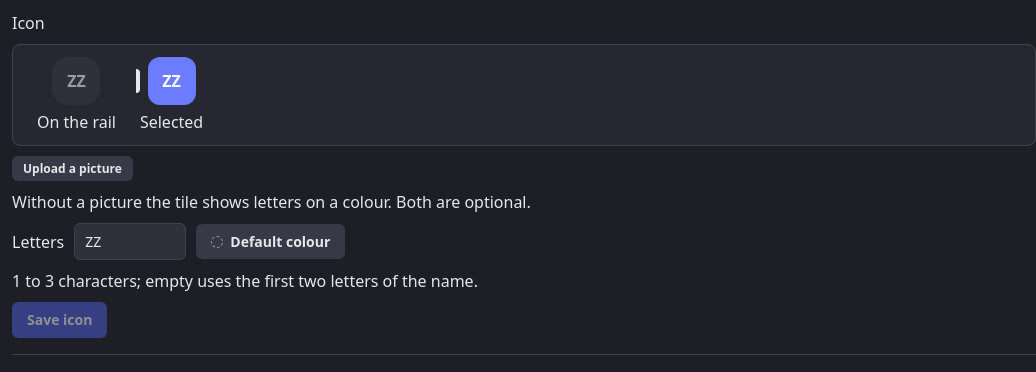
Test: the letters › refuse more than three characters, say so, and keep the saved ones in the preview
The width and height of the screenshot is (1036, 372).
Replace the text in the field labelled "Letters" with "ABCD" at (130, 242), box [74,223,186,260]
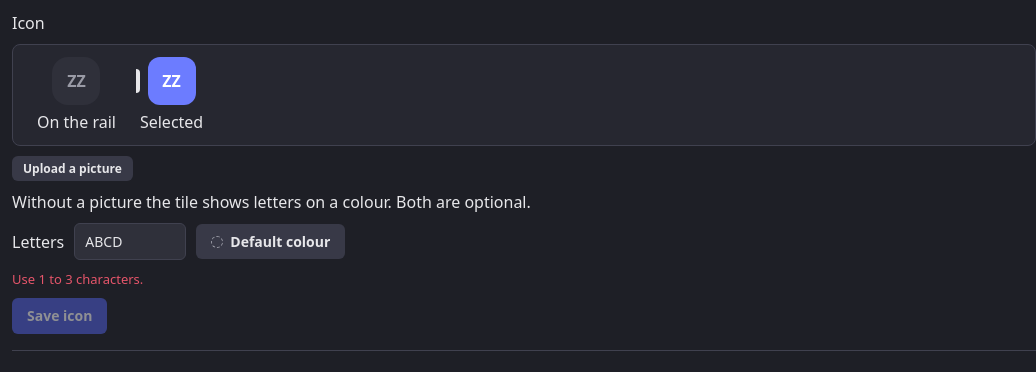
Expected: the button "Save icon" is disabled, [12,298,107,334]
Expected: the text "Use 1 to 3 characters." is shown, [12,270,143,288]
